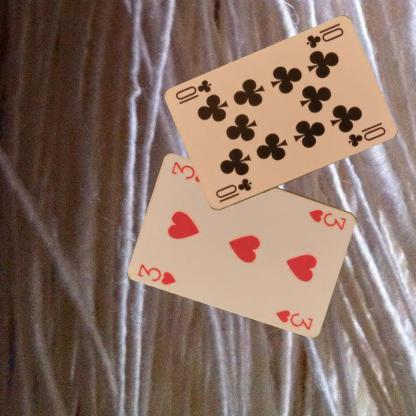10c: (212, 176, 254, 204), (303, 25, 345, 50)
3h: (306, 206, 348, 231), (136, 261, 178, 286)
